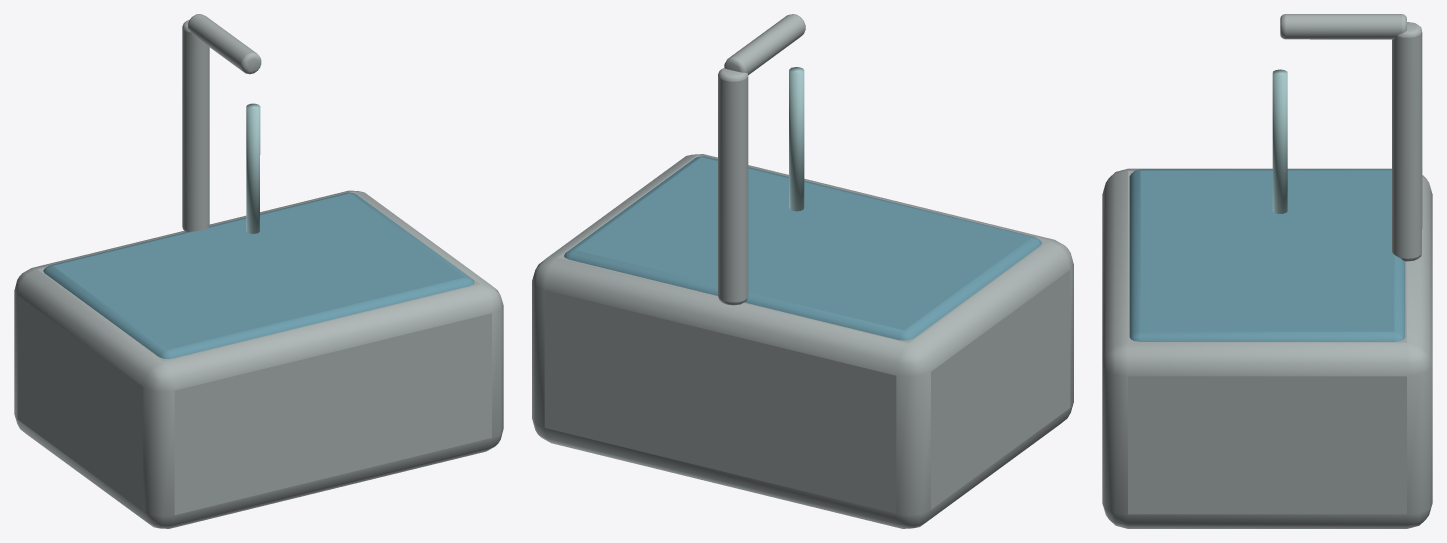
Rendered from bon_rua.glb.
The picture shows the model from 3 angles, left to right: view 1: azimuth 30°, elevation 25°; view 2: azimuth 150°, elevation 25°; view 3: azimuth 270°, elevation 25°; orthographic projection. The views are drawn at different scales.
Parts seen in each view (by area): view 1: bon_rua; view 2: bon_rua; view 3: bon_rua.
Boxes of the visible parts, box(x1,y1,x2,y2) form: bon_rua: box(14, 14, 503, 528); bon_rua: box(532, 14, 1073, 528); bon_rua: box(1102, 14, 1432, 528).
Bounding box in the file's own units: 0.36 × 0.37 × 0.26.
